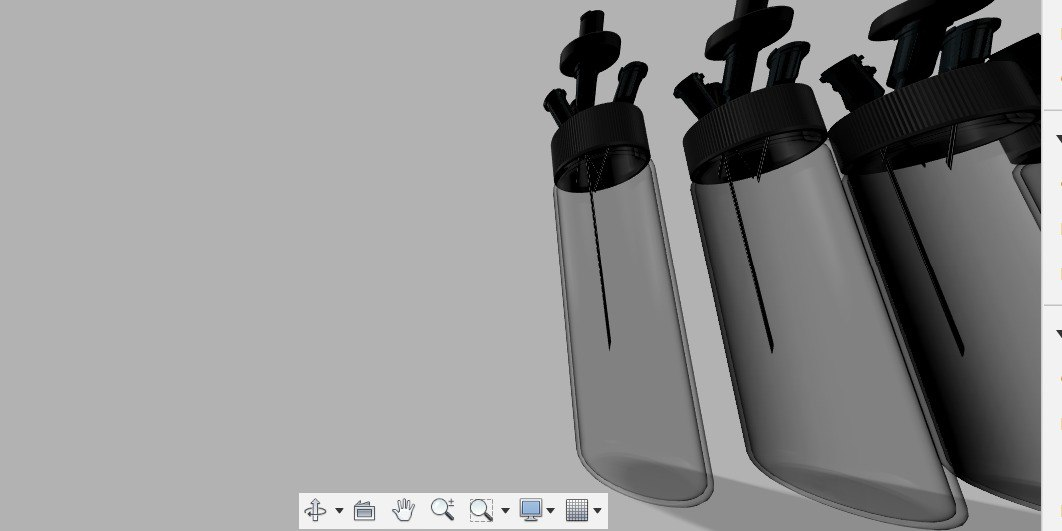vial: (677, 83, 966, 525), (829, 76, 1042, 523), (547, 104, 722, 510)
